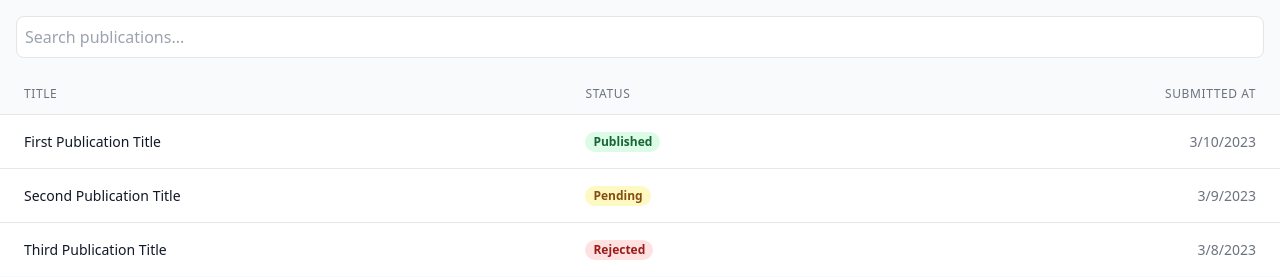
it: PublicationTable Component › renders search bar when searchable is true and filters publications
// Type a search query that only matches the second publication.
Type "Second" into the field with placeholder "Search publications..." at (640, 37), box [16,16,1264,58]
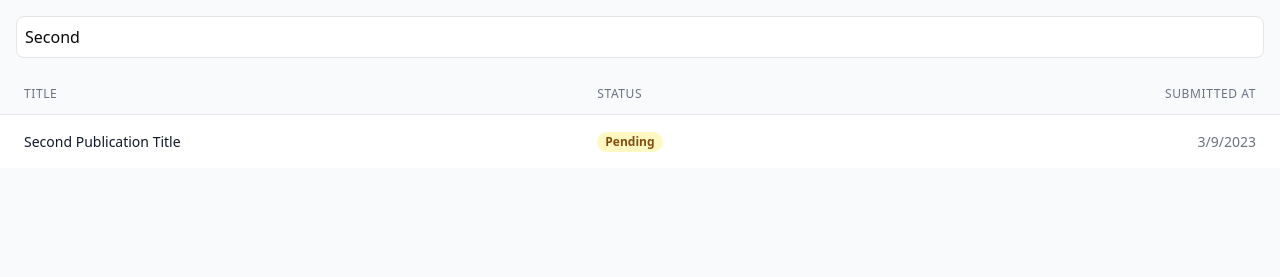
Expected: the text "Second Publication Title" is shown, [0,114,573,168]
Now the text "First Publication Title" is gone
Now the text "Third Publication Title" is gone
